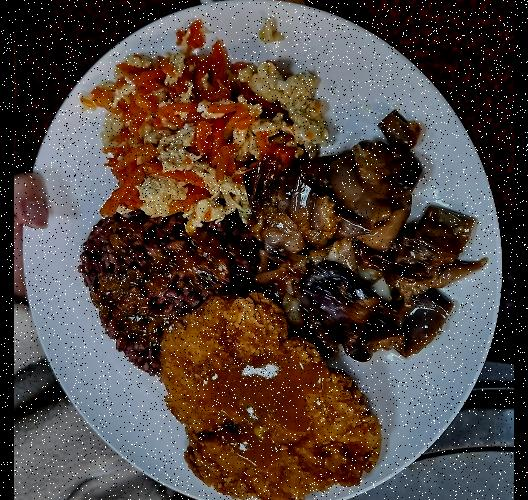big fried chicken leg: (26, 0, 498, 500)
braised fish fillet: (248, 134, 480, 359), (88, 48, 324, 220), (73, 203, 258, 379)
braised pork: (145, 296, 383, 500)
